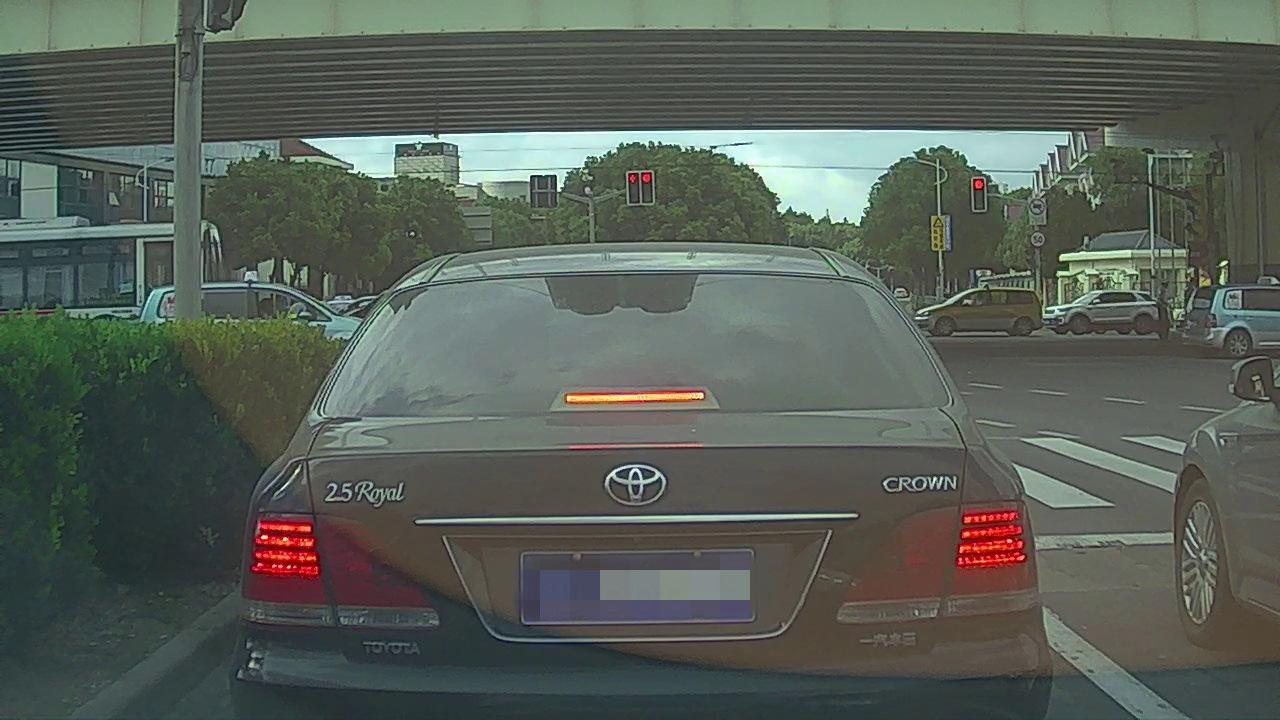traffic_light: (626, 172, 640, 204), (972, 178, 985, 211), (640, 172, 653, 205)
